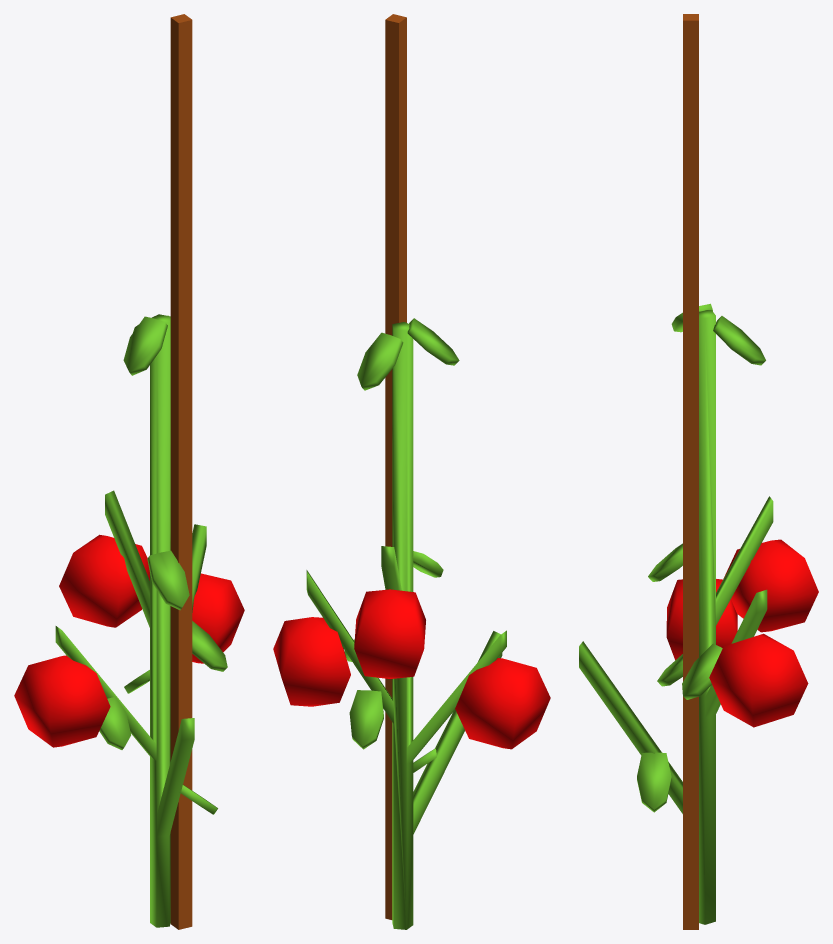
Rendered from tomato-eat2.obj.
The picture shows the model from 3 angles, left to right: view 1: azimuth 30°, elevation 25°; view 2: azimuth 150°, elevation 25°; view 3: azimuth 270°, elevation 25°; orthographic projection.
Parts seen in each view (by area): view 1: cube2, cylinder5, sphere6, sphere6_copy10, sphere6_copy9, cylinder12_copy16, cylinder12_copy14, cylinder12_copy13, cylinder12_copy15; view 2: cylinder5, cube2, sphere6, sphere6_copy10, sphere6_copy9, cylinder12_copy14, cylinder12_copy17; view 3: cylinder5, cube2, sphere6_copy9, sphere6_copy10, sphere6, cylinder12, cylinder12_copy14, cylinder12_copy15, cylinder12_copy16.
Part boxes in pixels (bbox=[...]): cube2: bbox=[170, 14, 192, 929]; cylinder5: bbox=[55, 314, 206, 927]; sphere6: bbox=[14, 655, 110, 747]; sphere6_copy10: bbox=[59, 534, 149, 627]; sphere6_copy9: bbox=[192, 573, 244, 663]; cylinder12_copy16: bbox=[147, 550, 189, 610]; cylinder12_copy14: bbox=[123, 315, 168, 375]; cylinder12_copy13: bbox=[99, 696, 130, 749]; cylinder12_copy15: bbox=[192, 621, 227, 671]; cylinder5: bbox=[306, 322, 506, 929]; cube2: bbox=[385, 14, 406, 919]; sphere6: bbox=[455, 658, 550, 749]; sphere6_copy10: bbox=[354, 589, 425, 678]; sphere6_copy9: bbox=[273, 617, 350, 706]; cylinder12_copy14: bbox=[357, 318, 459, 390]; cylinder12_copy17: bbox=[349, 690, 383, 749]; cylinder5: bbox=[579, 310, 773, 924]; cube2: bbox=[683, 14, 698, 929]; sphere6_copy9: bbox=[709, 633, 808, 727]; sphere6_copy10: bbox=[723, 539, 818, 632]; sphere6: bbox=[666, 579, 737, 660]; cylinder12: bbox=[637, 752, 671, 812]; cylinder12_copy14: bbox=[671, 303, 765, 365]; cylinder12_copy15: bbox=[682, 643, 722, 699]; cylinder12_copy16: bbox=[648, 543, 682, 581].
Bounding box in the file's own units: 1.65 × 6 × 1.43.
